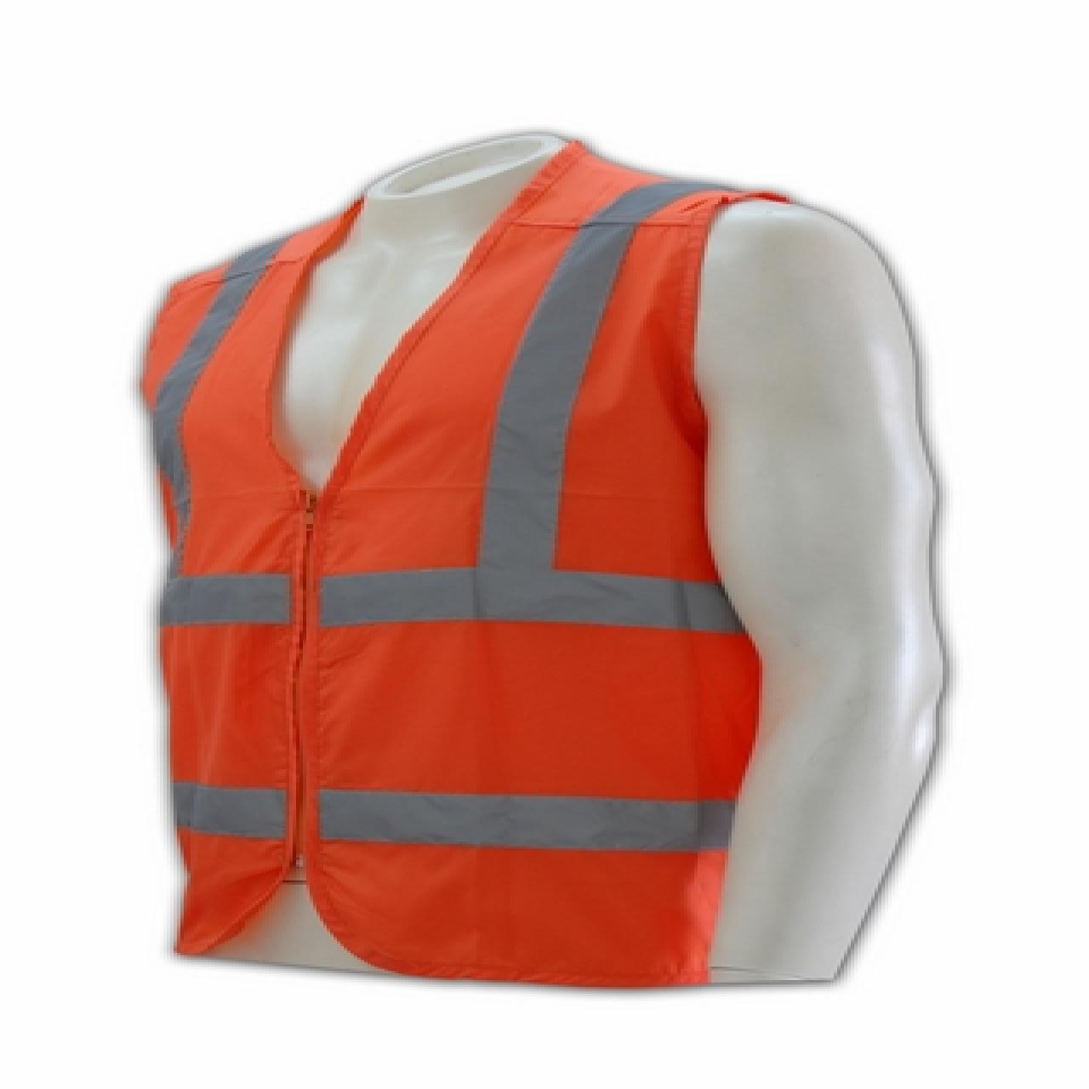Safety_Vest: (71, 134, 876, 989)
